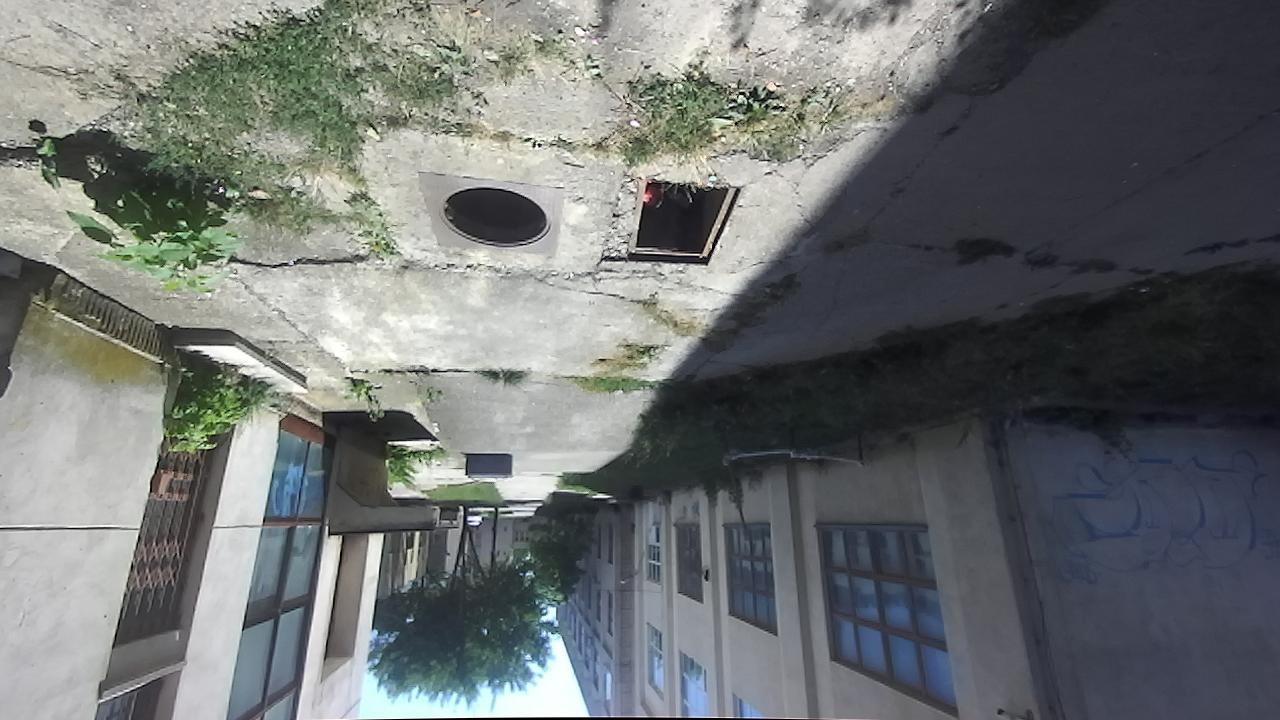drain: (619, 168, 748, 269), (436, 189, 557, 250)
